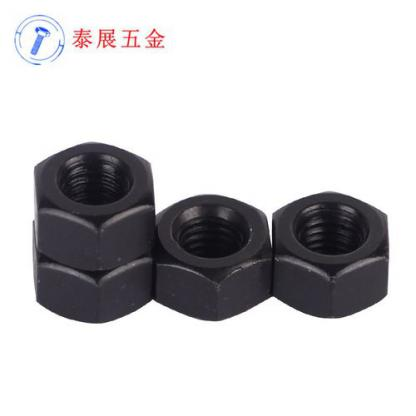FOD: (30, 135, 158, 266), (150, 192, 272, 323), (271, 189, 391, 319), (30, 213, 161, 326)
